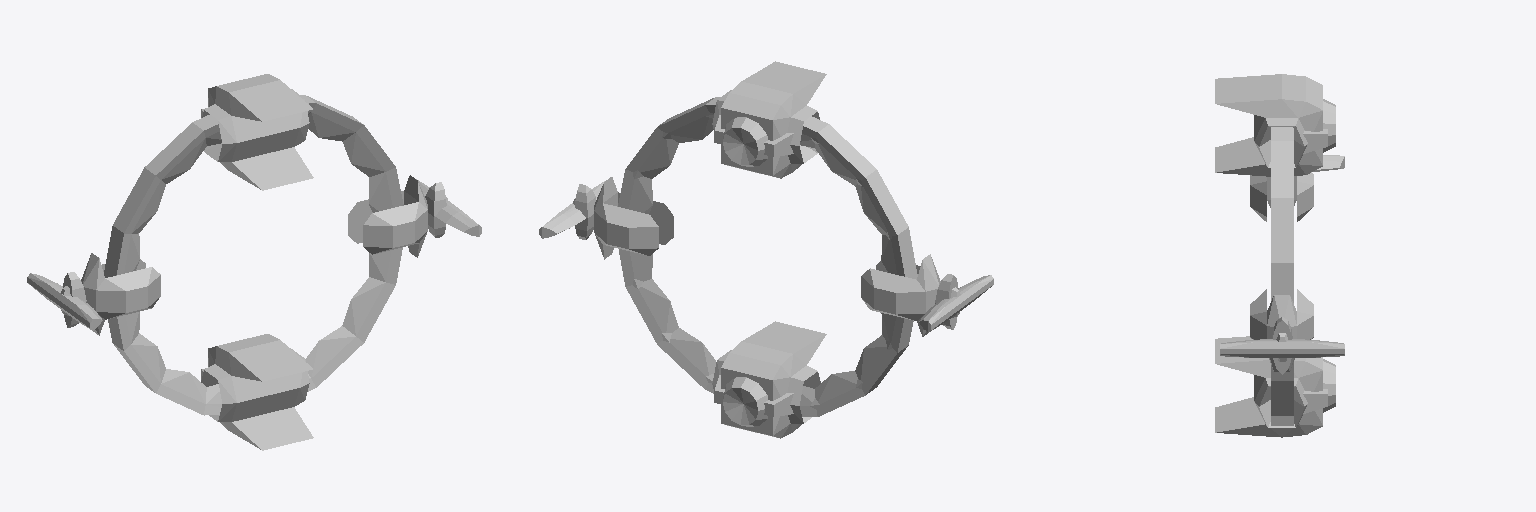
File: stg300_MotGate_c1_03.obj
3 views of the same model, side by side, from view 1: azimuth 30°, elevation 25°; view 2: azimuth 150°, elevation 25°; view 3: azimuth 270°, elevation 25° (orthographic).
Parts seen in each view (by area): view 1: polygon0, polygon6, polygon7, polygon4, polygon3, polygon1, polygon5, polygon2; view 2: polygon0, polygon6, polygon7, polygon1, polygon4, polygon3, polygon5, polygon2; view 3: polygon0, polygon6, polygon2.
Part boxes in pixels (x1,y1,x2,y2): polygon0: (81, 74, 427, 450); polygon6: (104, 95, 403, 415); polygon7: (124, 112, 392, 403); polygon4: (27, 272, 102, 330); polygon3: (416, 179, 478, 232); polygon1: (126, 221, 414, 312); polygon5: (31, 273, 101, 319); polygon2: (426, 182, 481, 237); polygon0: (594, 61, 940, 438); polygon6: (618, 97, 917, 416); polygon7: (629, 116, 896, 405); polygon1: (607, 128, 895, 424); polygon4: (919, 274, 993, 332); polygon3: (543, 181, 604, 235); polygon5: (919, 275, 989, 321); polygon2: (539, 184, 595, 239); polygon0: (1215, 74, 1335, 437); polygon6: (1271, 127, 1293, 425); polygon2: (1220, 317, 1344, 374).
Bounding box in the file's own units: 241 × 199 × 69.79.